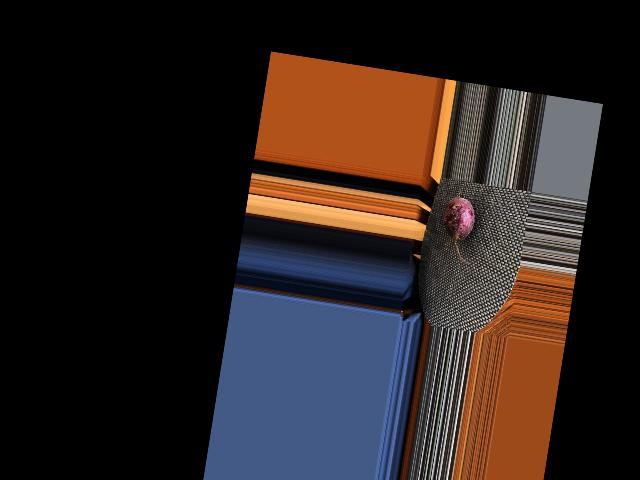beet: (436, 195, 481, 264)
